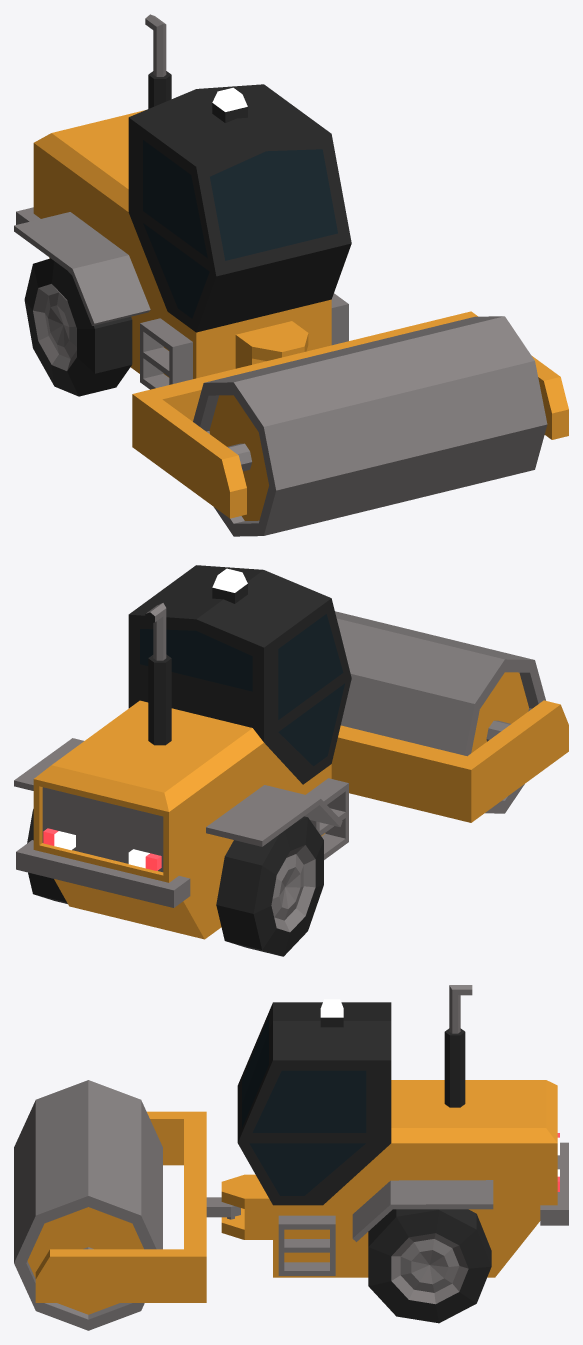
File: road-roller.glb
3 views of the same model, one above another, from view 1: azimuth 30°, elevation 25°; view 2: azimuth 150°, elevation 25°; view 3: azimuth 270°, elevation 25° (orthographic). The views are drawn at different scales.
Parts seen in each view (by area): view 1: road-roller-base, road-roller-cylinder, road-roller-wheel-frame_F, road-roller-wheel_BR; view 2: road-roller-base, road-roller-cylinder, road-roller-wheel-frame_F, road-roller-wheel_BR, road-roller-wheel_BL; view 3: road-roller-base, road-roller-cylinder, road-roller-wheel-frame_F, road-roller-wheel_BL.
Boxes of the visible parts, <box> form: road-roller-base: <box>14,14,351,389</box>; road-roller-cylinder: <box>193,316,547,536</box>; road-roller-wheel-frame_F: <box>132,311,568,518</box>; road-roller-wheel_BR: <box>24,258,132,396</box>; road-roller-base: <box>14,565,351,939</box>; road-roller-cylinder: <box>335,611,545,813</box>; road-roller-wheel-frame_F: <box>331,700,568,822</box>; road-roller-wheel_BR: <box>216,816,323,956</box>; road-roller-wheel_BL: <box>27,809,67,903</box>; road-roller-base: <box>221,985,568,1277</box>; road-roller-cylinder: <box>14,1080,162,1330</box>; road-roller-wheel-frame_F: <box>35,1111,240,1302</box>; road-roller-wheel_BL: <box>368,1209,491,1323</box>.
Bounding box in the file's own units: 3 × 2.8 × 4.86.
Materials: 1 (1 with a texture image).
